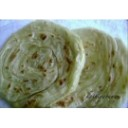parota: (3, 21, 80, 103), (68, 24, 128, 105)
